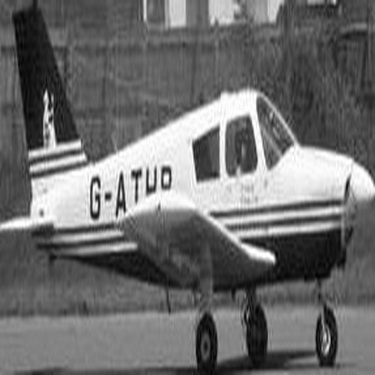airplane: (1, 6, 370, 367)
